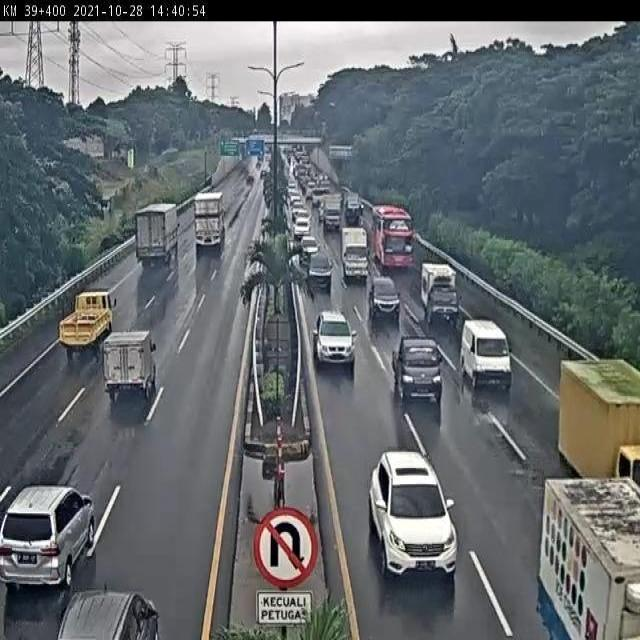Bus: (368, 202, 424, 270)
Car: (4, 468, 98, 588), (370, 443, 452, 576), (388, 331, 449, 408), (365, 280, 403, 328), (315, 313, 352, 361), (303, 256, 336, 296)
Truck: (524, 473, 640, 640), (551, 343, 639, 487), (98, 328, 166, 403), (59, 287, 118, 354), (132, 203, 182, 270), (420, 264, 462, 320), (194, 188, 228, 251)
Van: (457, 307, 516, 396)
